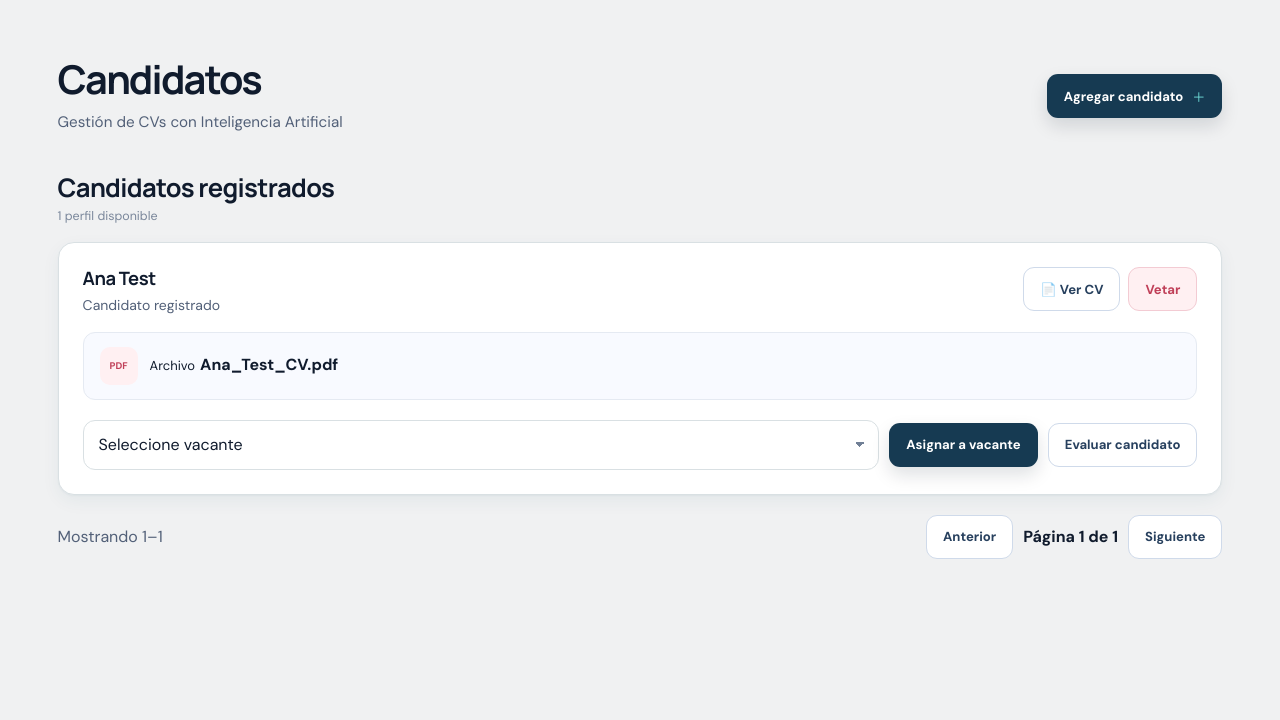
Scenario: Candidates evaluation › shows FAILED without 0% or Sin clasificación
Expected: the heading "Ana Test" is shown, x1=83 y1=266 x2=156 y2=292
Select "Backend Developer" in the dropdown at (481, 444), box x1=83 y1=420 x2=879 y2=470
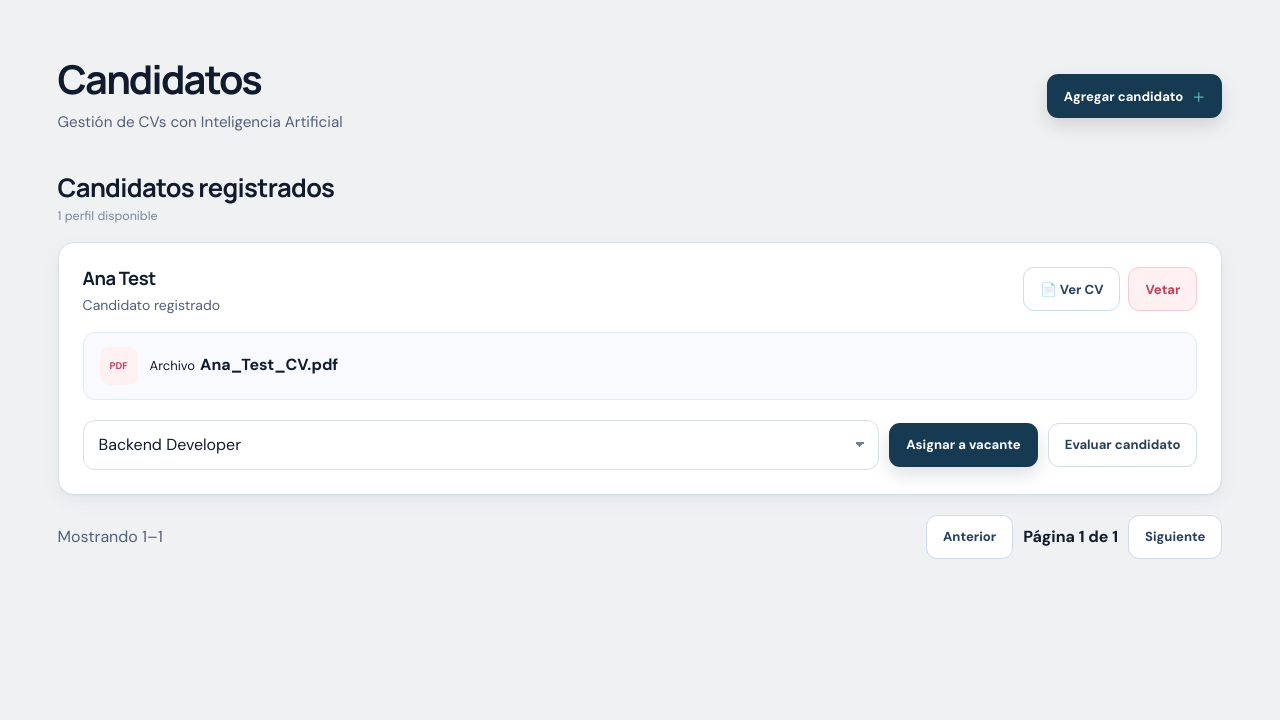
Click the button "Evaluar candidato" at (1123, 444), box x1=1048 y1=422 x2=1197 y2=466
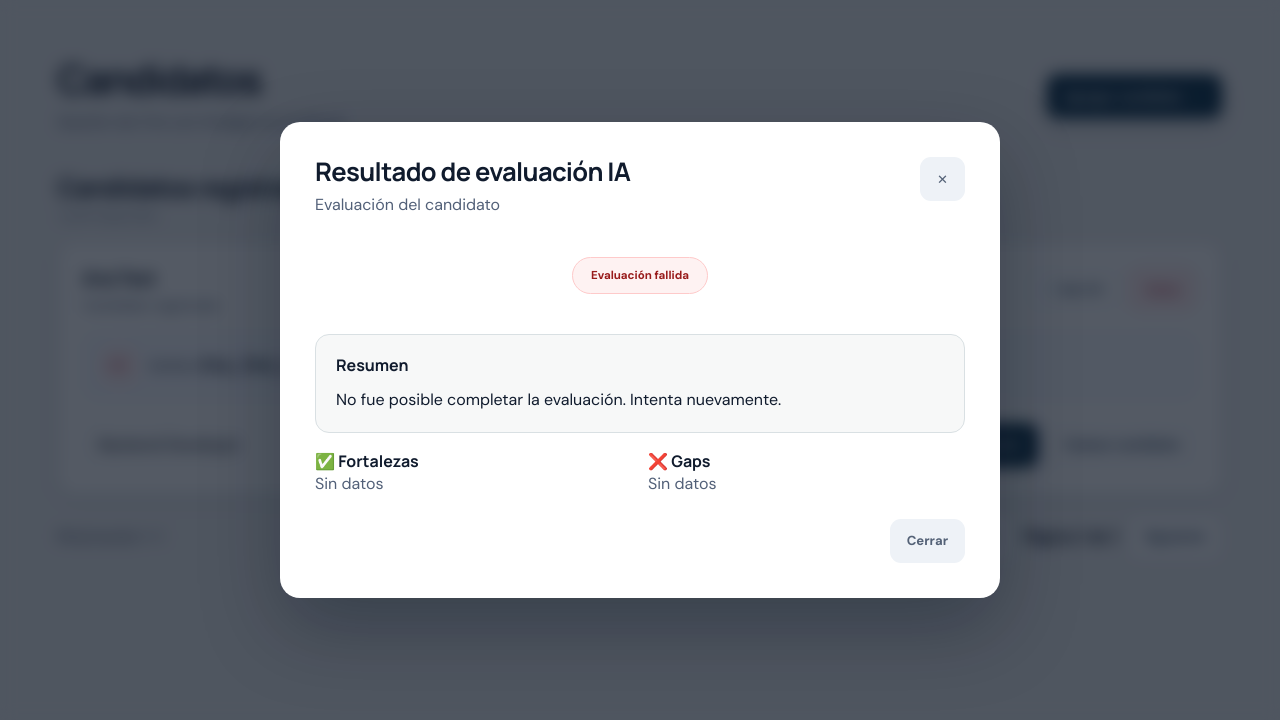
Expected: the text "Evaluación fallida" is shown, x1=572 y1=257 x2=708 y2=294
